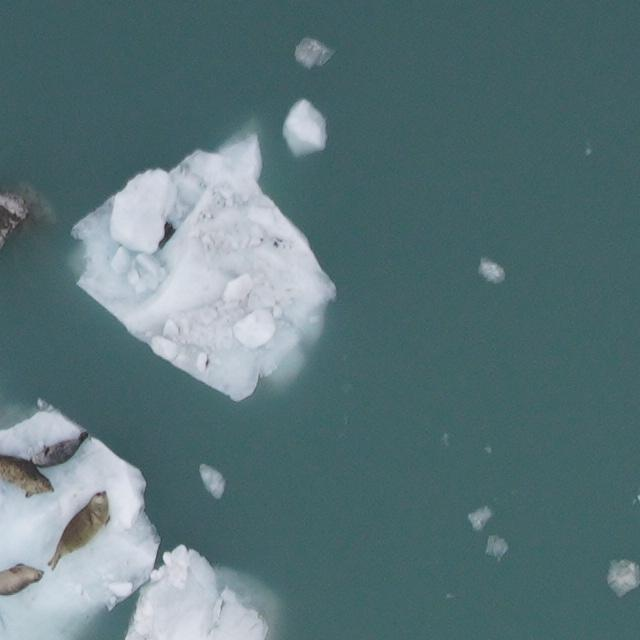seal: (42, 488, 115, 573), (24, 425, 95, 472), (0, 450, 60, 502), (0, 560, 49, 601)
